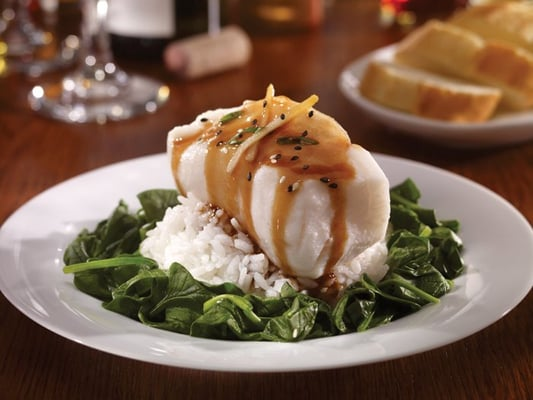soup: (163, 85, 392, 304)
sushi: (15, 57, 533, 388), (338, 0, 533, 157)
